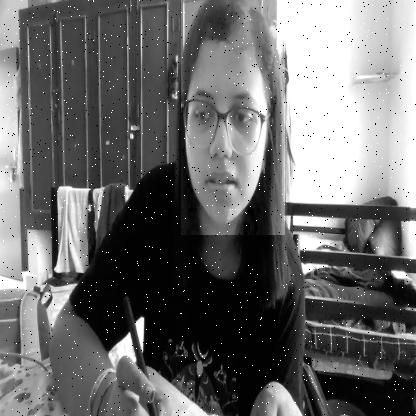Normal: (181, 0, 286, 235)
